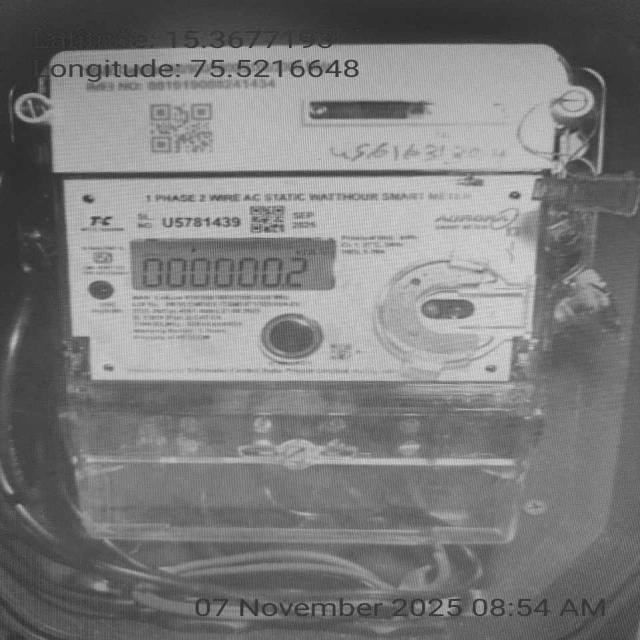meter: (49, 52, 586, 387)
